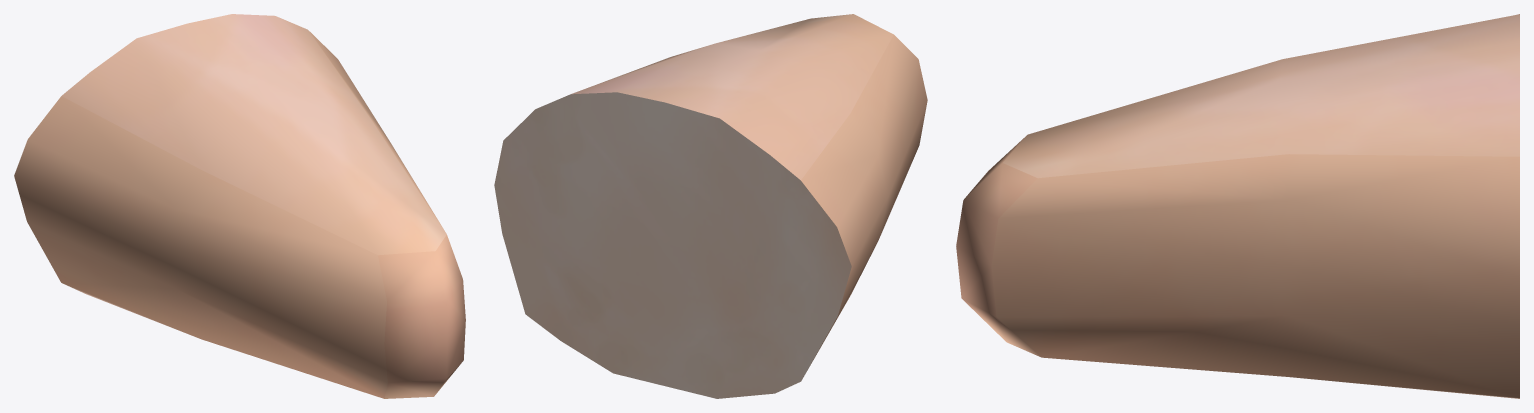
File: chicken_breast_01.fbx
3 views of the same model, side by side, from view 1: azimuth 30°, elevation 25°; view 2: azimuth 150°, elevation 25°; view 3: azimuth 270°, elevation 25° (orthographic). The views are drawn at different scales.
Visible parts, largest first — view 1: chicken_breast_01; view 2: chicken_breast_01; view 3: chicken_breast_01.
Boxes of the visible parts, bbox=[...] form: chicken_breast_01: bbox=[14, 14, 465, 398]; chicken_breast_01: bbox=[494, 14, 927, 398]; chicken_breast_01: bbox=[956, 14, 1519, 398].
Size of the model in its own units: 2.18 by 1.65 by 2.62.
